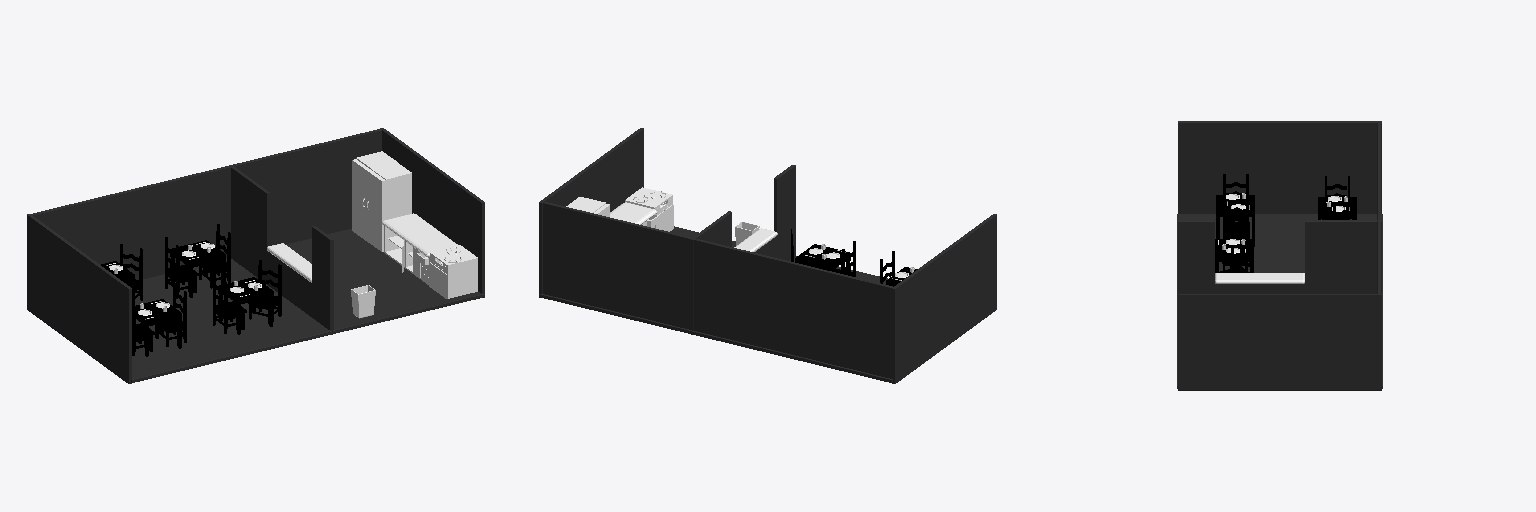
Rendered from environment_v05.obj.
The picture shows the model from 3 angles: view 1: azimuth 30°, elevation 25°; view 2: azimuth 150°, elevation 25°; view 3: azimuth 270°, elevation 25°; orthographic projection.
Bounding box in the file's own units: 513 × 131 × 257.